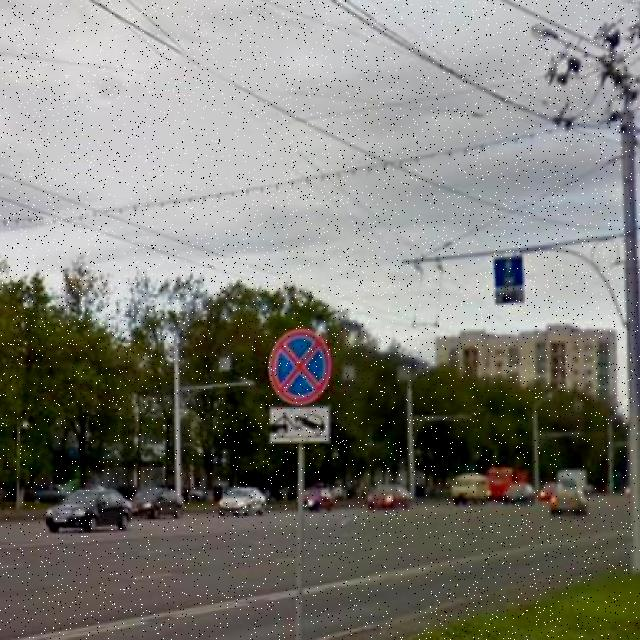Zakaz zatrzymywania sie: (266, 328, 334, 408)
